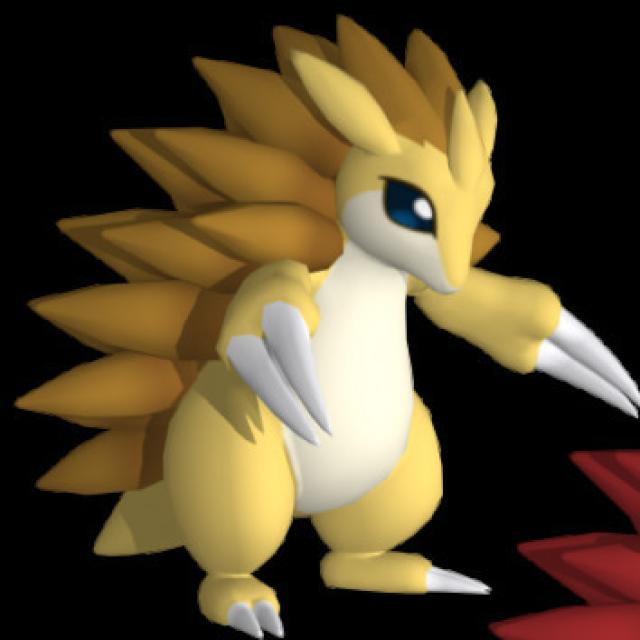Sandslash: (145, 54, 562, 594)
